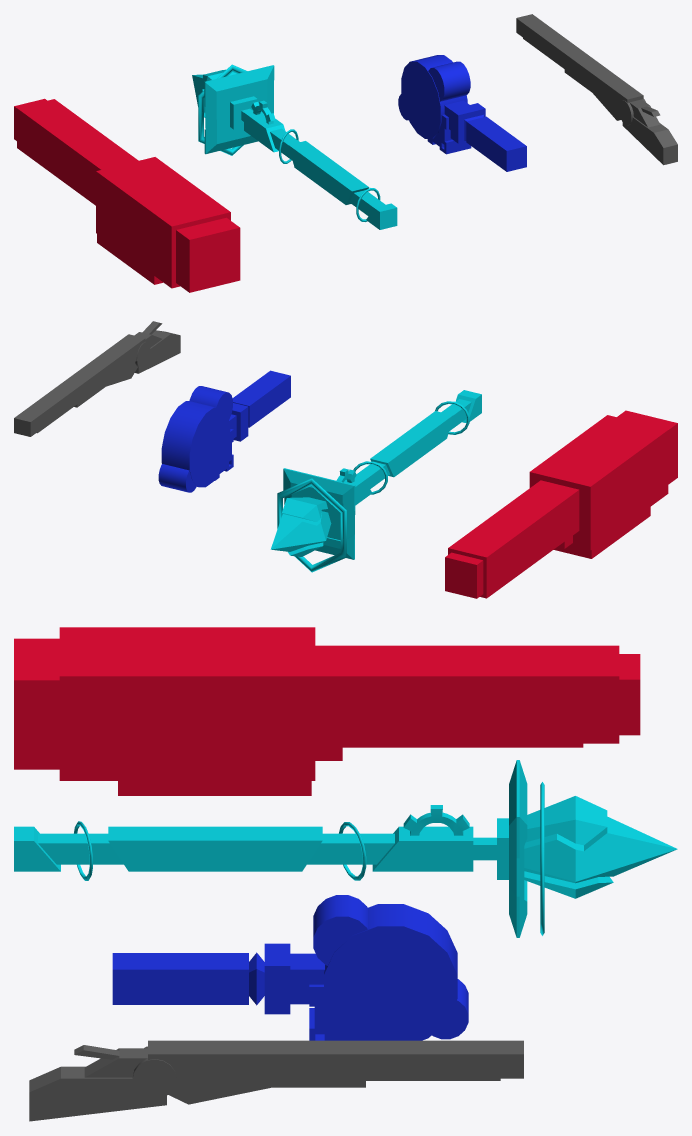
File: PUCK_Weapon.fbx
3 views of the same model, one above another, from view 1: azimuth 30°, elevation 25°; view 2: azimuth 150°, elevation 25°; view 3: azimuth 270°, elevation 25° (orthographic). The views are drawn at different scales.
Parts seen in each view (by area): view 1: inferno, Cube.064, Riptide, MagicBullet; view 2: inferno, Cube.064, Riptide, MagicBullet; view 3: inferno, Cube.064, Riptide, MagicBullet.
Boxes of the visible parts, x1=… form: inferno: x1=14, y1=98, x2=240, y2=292; Cube.064: x1=192, y1=64, x2=397, y2=229; Riptide: x1=398, y1=55, x2=526, y2=171; MagicBullet: x1=516, y1=14, x2=677, y2=165; inferno: x1=445, y1=410, x2=677, y2=598; Cube.064: x1=270, y1=390, x2=481, y2=572; Riptide: x1=158, y1=370, x2=290, y2=492; MagicBullet: x1=14, y1=321, x2=180, y2=436; inferno: x1=14, y1=627, x2=640, y2=795; Cube.064: x1=14, y1=760, x2=677, y2=937; Riptide: x1=112, y1=895, x2=468, y2=1040; MagicBullet: x1=29, y1=1040, x2=523, y2=1121.
Bounding box in the file's own units: 244 × 44.41 × 167.
